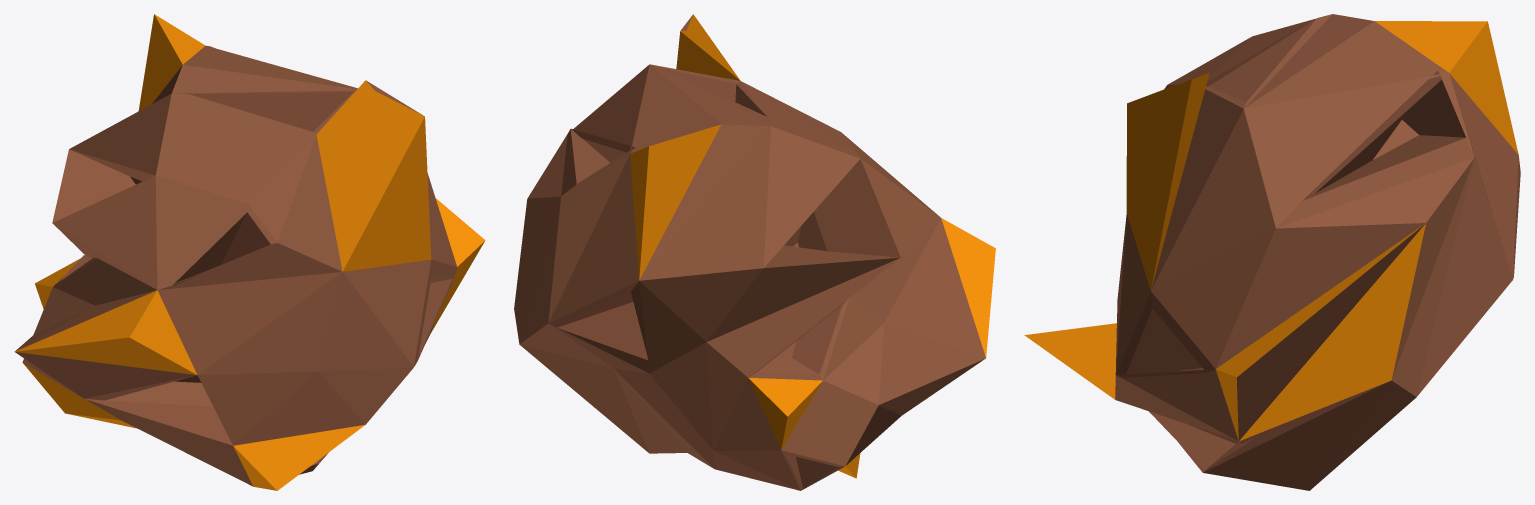
File: AsteroidCristall2.glb
3 renders of one model, left to right at view 1: azimuth 30°, elevation 25°; view 2: azimuth 150°, elevation 25°; view 3: azimuth 270°, elevation 25°, orthographic. The views are drawn at different scales.
Visible parts, largest first — view 1: AsteroidCristall2; view 2: AsteroidCristall2; view 3: AsteroidCristall2.
Boxes of the visible parts, x1,y1,x2,y2 form: AsteroidCristall2: (14,14,485,490); AsteroidCristall2: (514,14,995,490); AsteroidCristall2: (1024,14,1520,490).
Bounding box in the file's own units: 9.43 × 7.44 × 7.75.
Materials: 1 (1 with a texture image).
